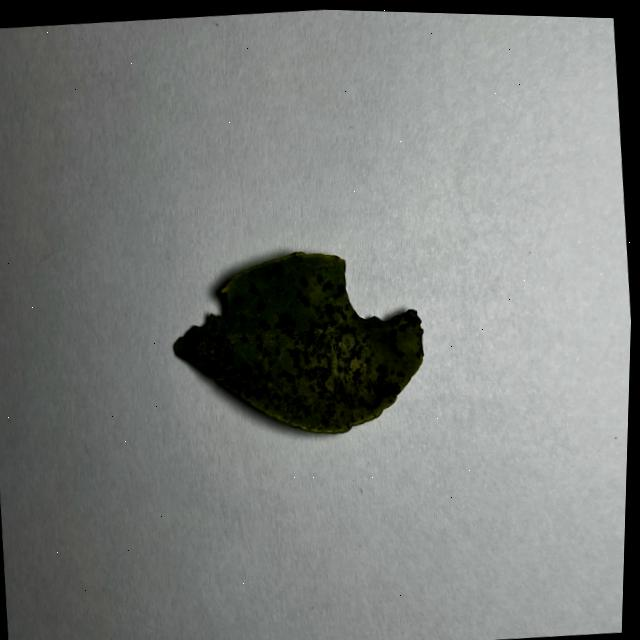sooty_mold: (174, 252, 423, 432)
